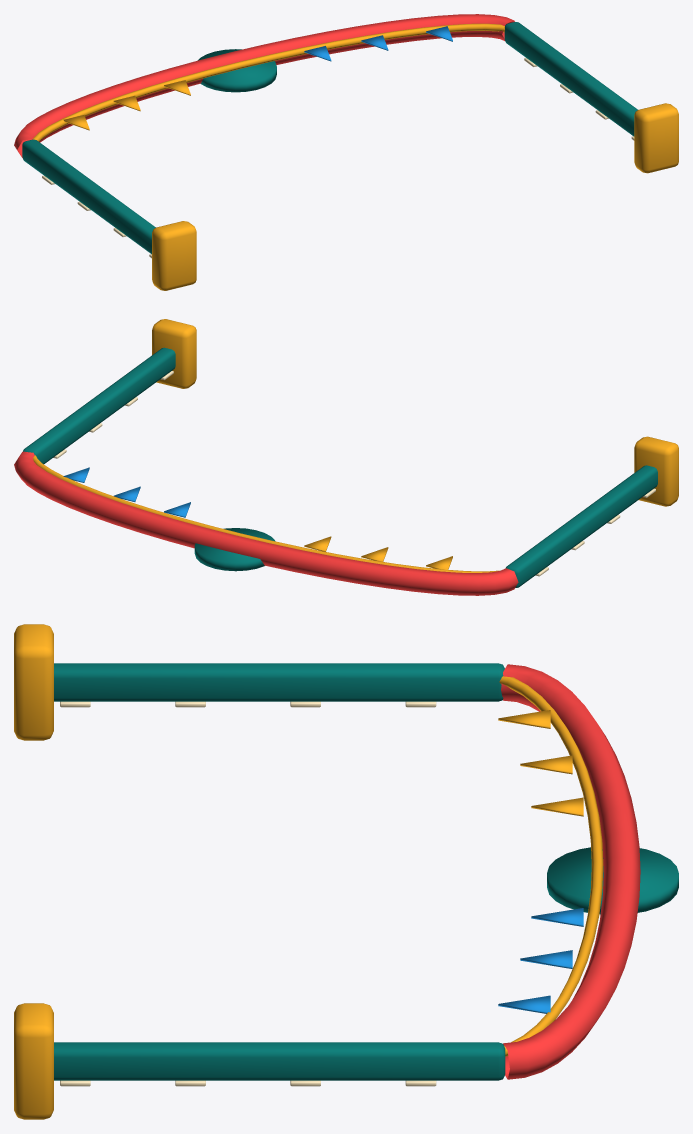
Rendered from ArcadeFestivalArch.fbx.
3 views of the same model, one above another, from view 1: azimuth 30°, elevation 25°; view 2: azimuth 150°, elevation 25°; view 3: azimuth 270°, elevation 25° (orthographic). The views are drawn at different scales.
Visible parts, largest first — view 1: ArcadeFestivalArch; view 2: ArcadeFestivalArch; view 3: ArcadeFestivalArch.
Boxes of the visible parts, left/top/right/bottom form: ArcadeFestivalArch: left=14, top=14, right=678, bottom=290; ArcadeFestivalArch: left=14, top=319, right=678, bottom=595; ArcadeFestivalArch: left=14, top=624, right=678, bottom=1119.
Bounding box in the file's own units: 6.29 × 0.68 × 4.33.
